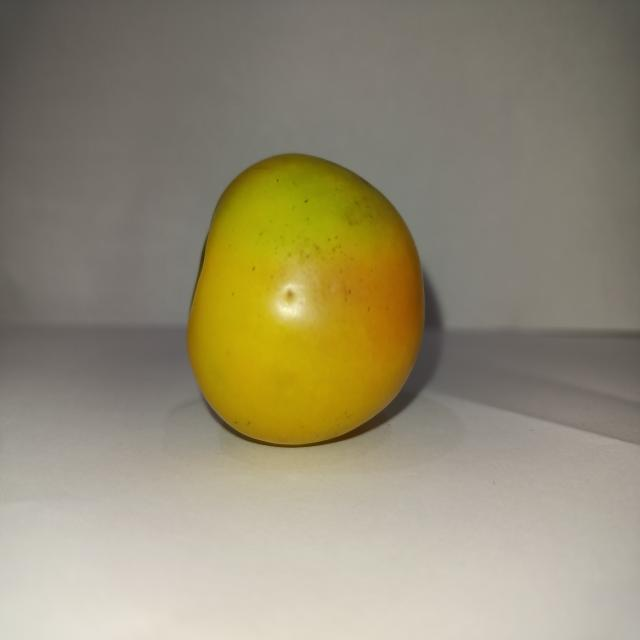Red: (185, 151, 426, 447)
